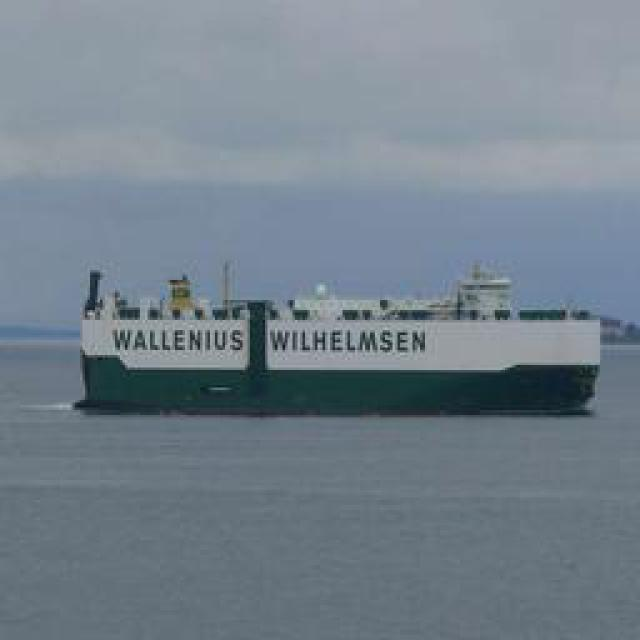Ship: (81, 257, 599, 417)
